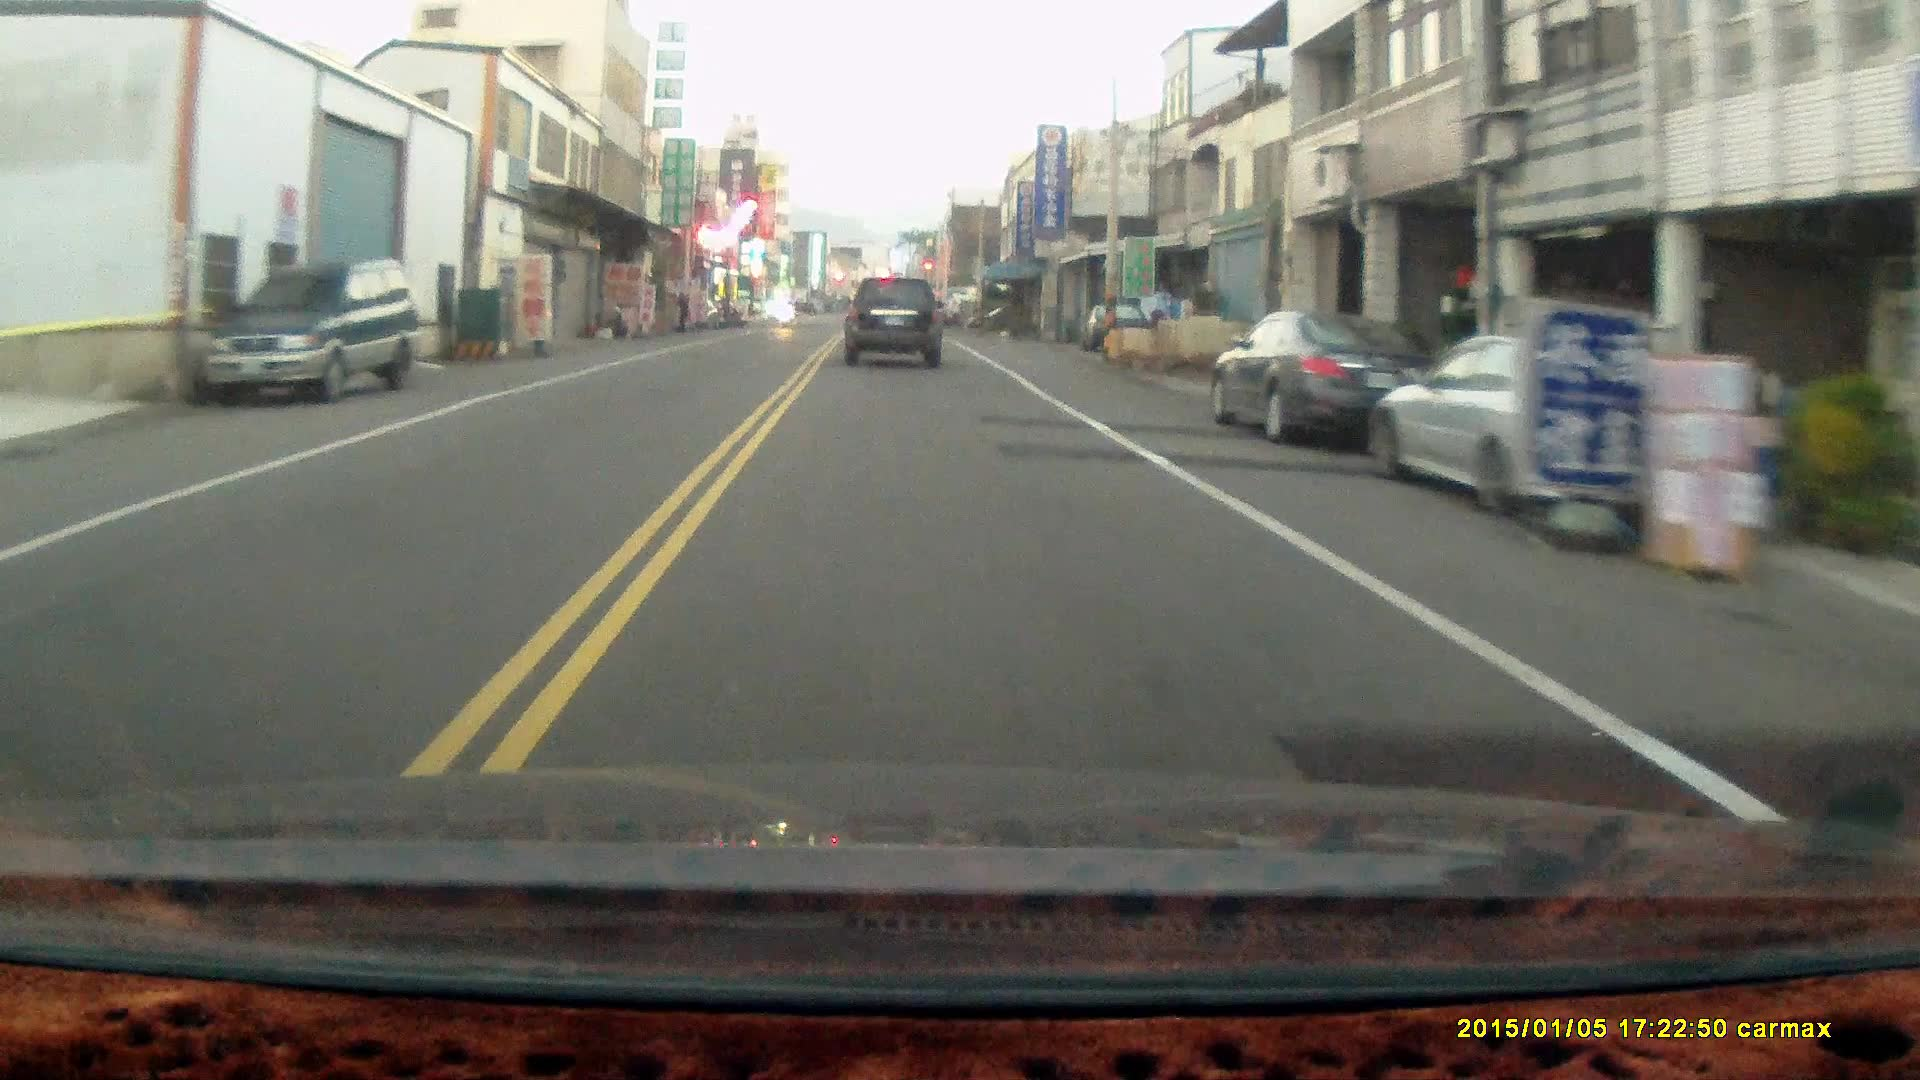pedestrian: (670, 288, 690, 332)
vehicle: (1375, 326, 1758, 514), (1208, 309, 1451, 444), (200, 254, 421, 403), (844, 276, 946, 370)
